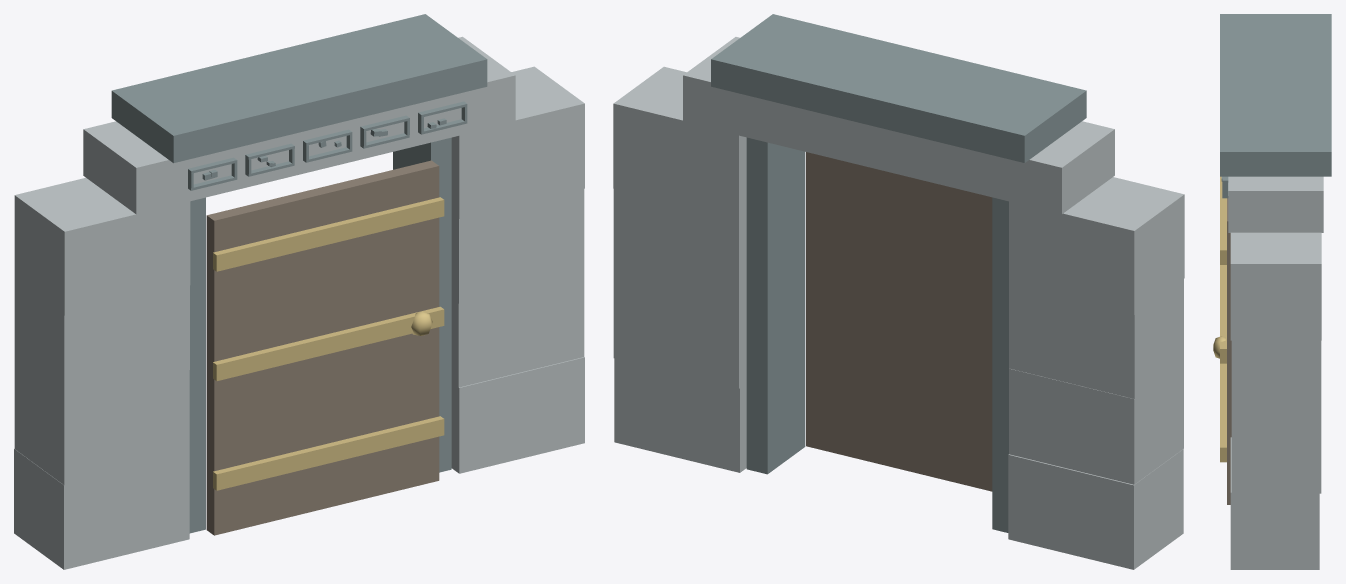
Rendered from sunken-city-and-underwater-ruins-doorway-frame-1292bfb7__36955.glb.
The picture shows the model from 3 angles, left to right: view 1: azimuth 30°, elevation 25°; view 2: azimuth 150°, elevation 25°; view 3: azimuth 270°, elevation 25°; orthographic projection. The views are drawn at different scales.
Parts seen in each view (by area): view 1: doorway-frame, leaf-door/timber, leaf-door/brass; view 2: doorway-frame, leaf-door/timber; view 3: doorway-frame, leaf-door/brass, leaf-door/timber.
Part boxes in pixels (bbox=[...]): doorway-frame: bbox=[14, 14, 584, 569]; leaf-door/timber: bbox=[206, 160, 439, 535]; leaf-door/brass: bbox=[213, 197, 444, 490]; doorway-frame: bbox=[613, 14, 1184, 569]; leaf-door/timber: bbox=[806, 152, 992, 491]; doorway-frame: bbox=[1220, 14, 1331, 569]; leaf-door/brass: bbox=[1213, 176, 1226, 462]; leaf-door/timber: bbox=[1227, 198, 1231, 504].
Bounding box in the file's own units: 3.98 × 3.02 × 0.8706.
